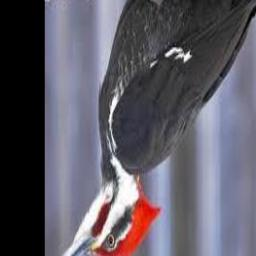Woodpecker: (53, 0, 256, 256)
